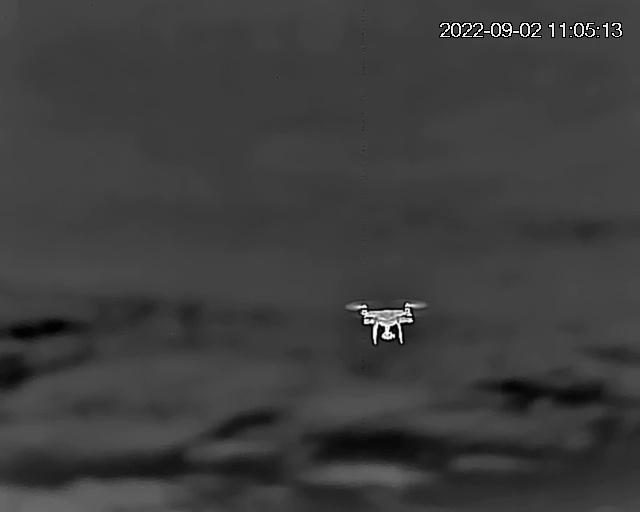DJI-Phantom: (346, 297, 429, 344)
